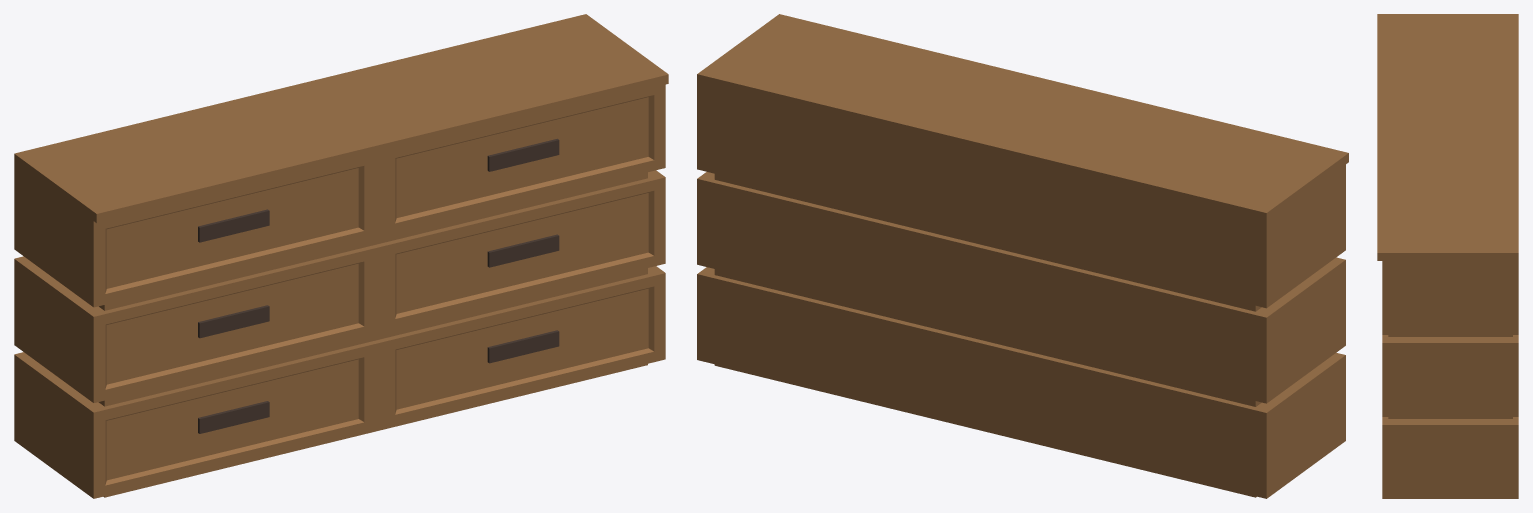
File: pk_console_oak.glb
3 views of the same model, side by side, from view 1: azimuth 30°, elevation 25°; view 2: azimuth 150°, elevation 25°; view 3: azimuth 270°, elevation 25° (orthographic). The views are drawn at different scales.
Parts seen in each view (by area): view 1: pk_console_oak; view 2: pk_console_oak; view 3: pk_console_oak.
Boxes of the visible parts, <box> form: pk_console_oak: <box>14,14,668,498</box>; pk_console_oak: <box>697,14,1348,498</box>; pk_console_oak: <box>1377,14,1518,498</box>.
Size of the model in its own units: 1.6 by 0.78 by 0.4.
1 material, 1 textured.
